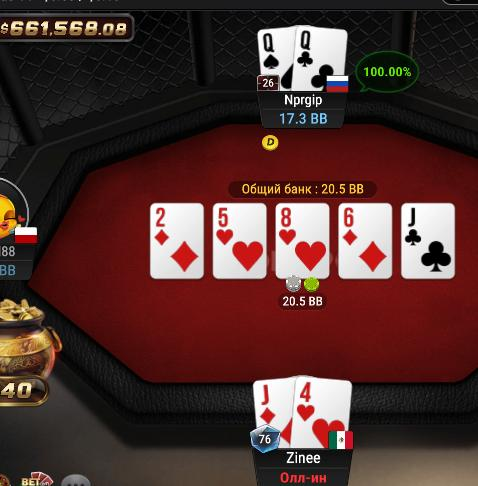2d: (151, 203, 203, 279)
4h: (294, 377, 353, 447)
5h: (214, 204, 266, 278)
6d: (340, 203, 391, 277)
8h: (277, 203, 328, 276)
Jc: (401, 204, 455, 277)
Jd: (253, 381, 293, 449)
Qc: (295, 25, 346, 92)
Qs: (257, 30, 295, 89)
